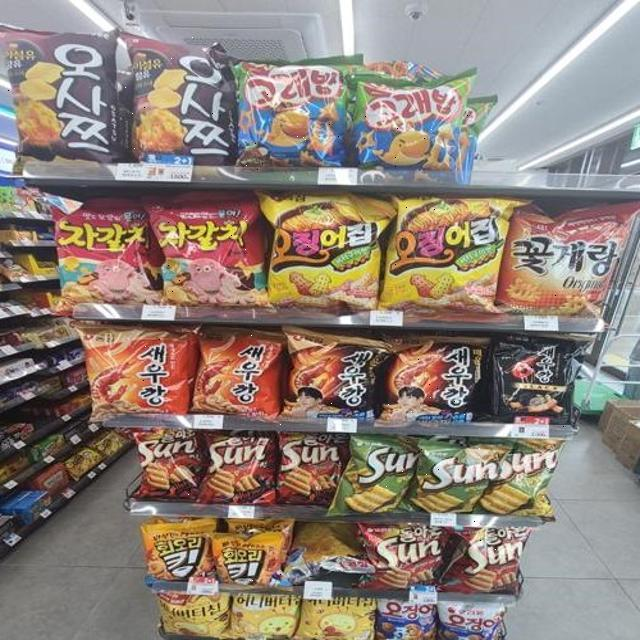product: (2, 30, 114, 161), (504, 207, 631, 317), (122, 32, 227, 158), (270, 195, 385, 305), (241, 52, 346, 172), (365, 66, 470, 183), (392, 195, 497, 311), (72, 322, 193, 418), (154, 197, 247, 302), (53, 206, 150, 301), (387, 340, 487, 430), (493, 337, 579, 430), (289, 338, 374, 430), (203, 332, 284, 428), (417, 440, 499, 524), (207, 428, 277, 511), (364, 518, 440, 593), (278, 430, 347, 509), (352, 437, 416, 518), (135, 432, 206, 502), (141, 522, 214, 590), (498, 442, 557, 522), (218, 529, 286, 592), (454, 534, 523, 595)
